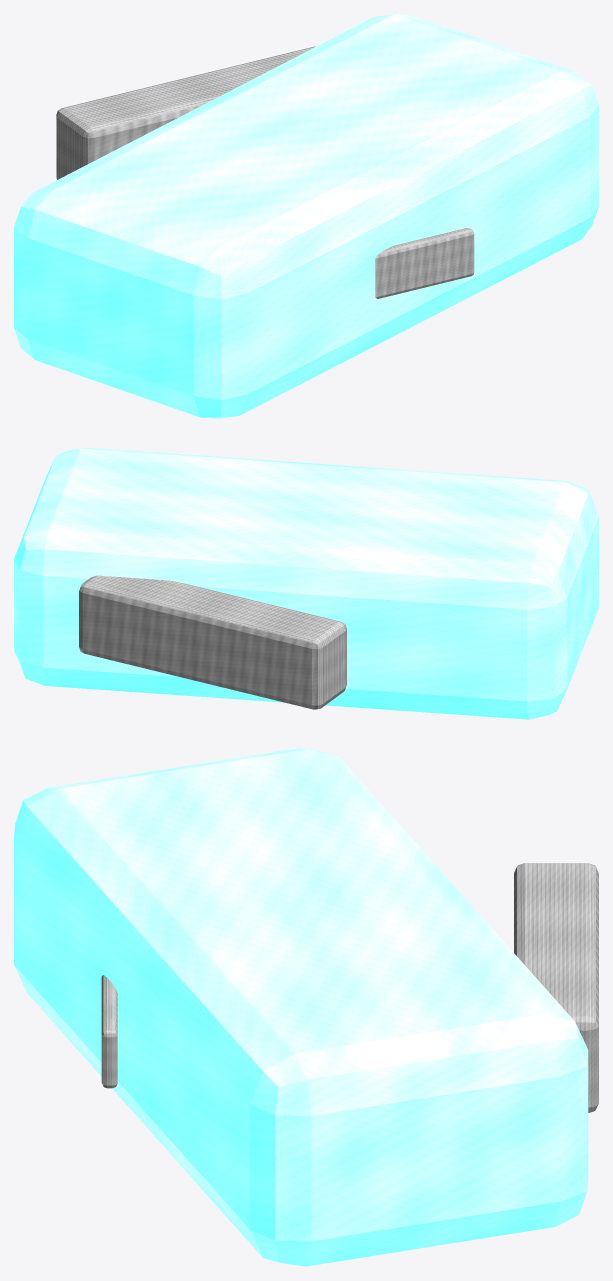
The model's file is item-steel-ingot_variant_d.glb.
The picture shows the model from 3 angles, top to bottom: view 1: azimuth 30°, elevation 25°; view 2: azimuth 150°, elevation 25°; view 3: azimuth 270°, elevation 25°; orthographic projection. The views are drawn at different scales.
Visible parts, largest first — view 1: Metal ingot.003, Variant modular rail, Ingot stamped mark.003; view 2: Metal ingot.003, Variant modular rail; view 3: Metal ingot.003, Variant modular rail, Ingot stamped mark.003.
Part boxes in pixels (left/top/right/bottom): Metal ingot.003: left=14, top=14, right=598, bottom=418; Variant modular rail: left=56, top=46, right=315, bottom=179; Ingot stamped mark.003: left=375, top=228, right=474, bottom=298; Metal ingot.003: left=14, top=447, right=598, bottom=719; Variant modular rail: left=79, top=575, right=346, bottom=709; Metal ingot.003: left=14, top=748, right=588, bottom=1266; Variant modular rail: left=514, top=863, right=598, bottom=1112; Ingot stamped mark.003: left=101, top=975, right=117, bottom=1088.
Size of what is drawn, in the model's own units: 0.7619 by 0.22 by 0.5501.
3 materials, 3 textured.
